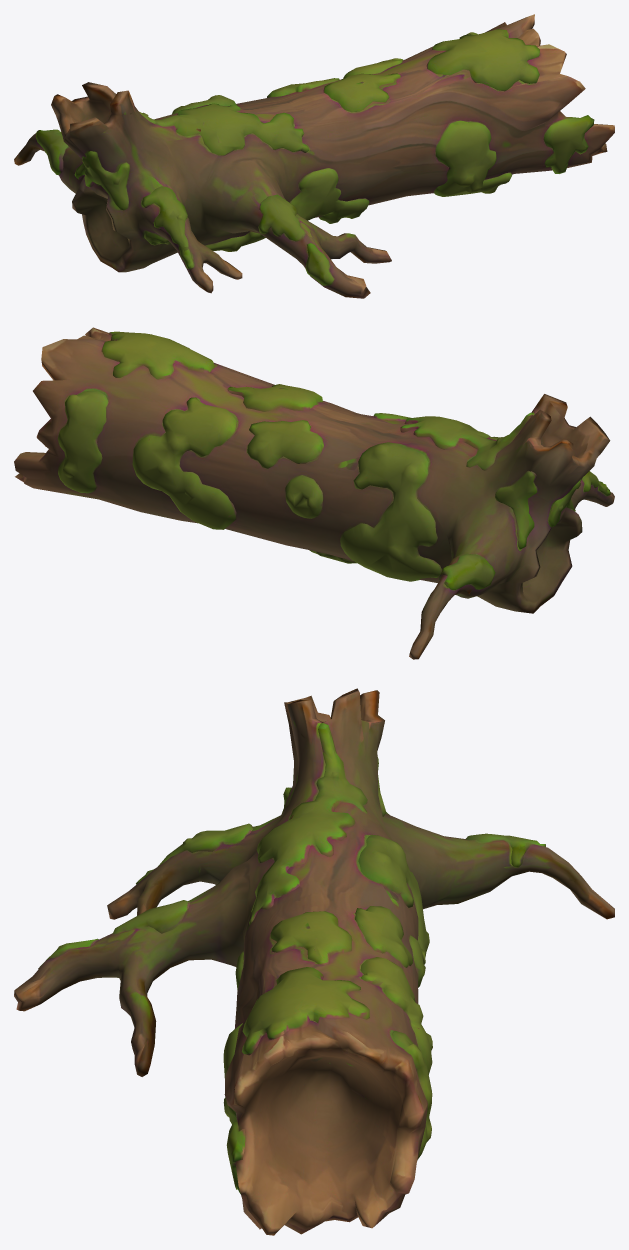
Rendered from FallenLog.fbx.
3 renders of one model, top to bottom at view 1: azimuth 30°, elevation 25°; view 2: azimuth 150°, elevation 25°; view 3: azimuth 270°, elevation 25°, orthographic. The views are drawn at different scales.
Visible parts, largest first — view 1: FallenLog; view 2: FallenLog; view 3: FallenLog.
Part boxes in pixels (x1,y1,x2,y2): FallenLog: [14, 14, 614, 298]; FallenLog: [14, 327, 614, 659]; FallenLog: [14, 688, 614, 1235].
Bounding box in the file's own units: 4 × 1.34 × 2.91.
